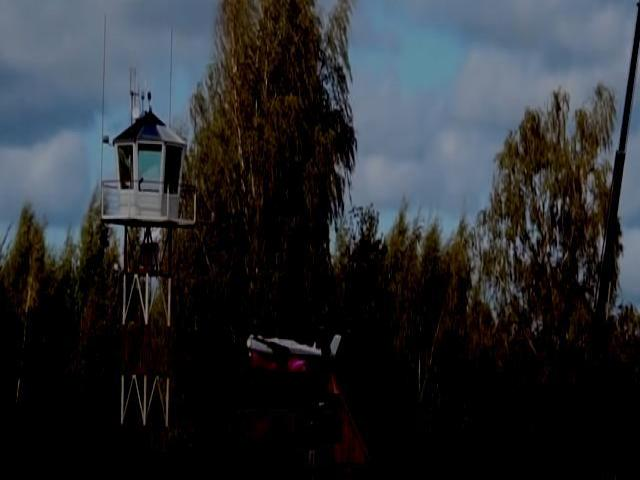iha: (240, 325, 341, 359)
